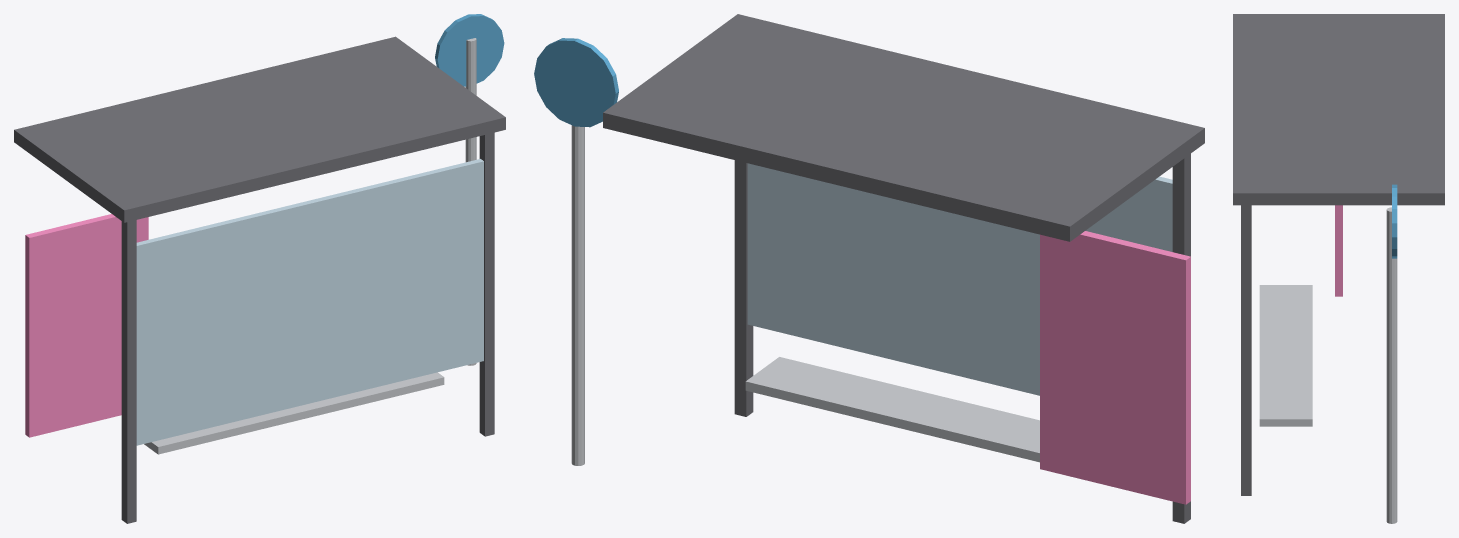
File: BusStop.fbx
3 renders of one model, left to right at view 1: azimuth 30°, elevation 25°; view 2: azimuth 150°, elevation 25°; view 3: azimuth 270°, elevation 25°, orthographic. The views are drawn at different scales.
Visible parts, largest first — view 1: BusStop_Mesh; view 2: BusStop_Mesh; view 3: BusStop_Mesh.
Part boxes in pixels (x1,y1,x2,y2): BusStop_Mesh: (14,14,505,523); BusStop_Mesh: (534,14,1204,523); BusStop_Mesh: (1233,14,1444,523).
Bounding box in the file's own units: 4.23 × 1.6 × 2.78.
